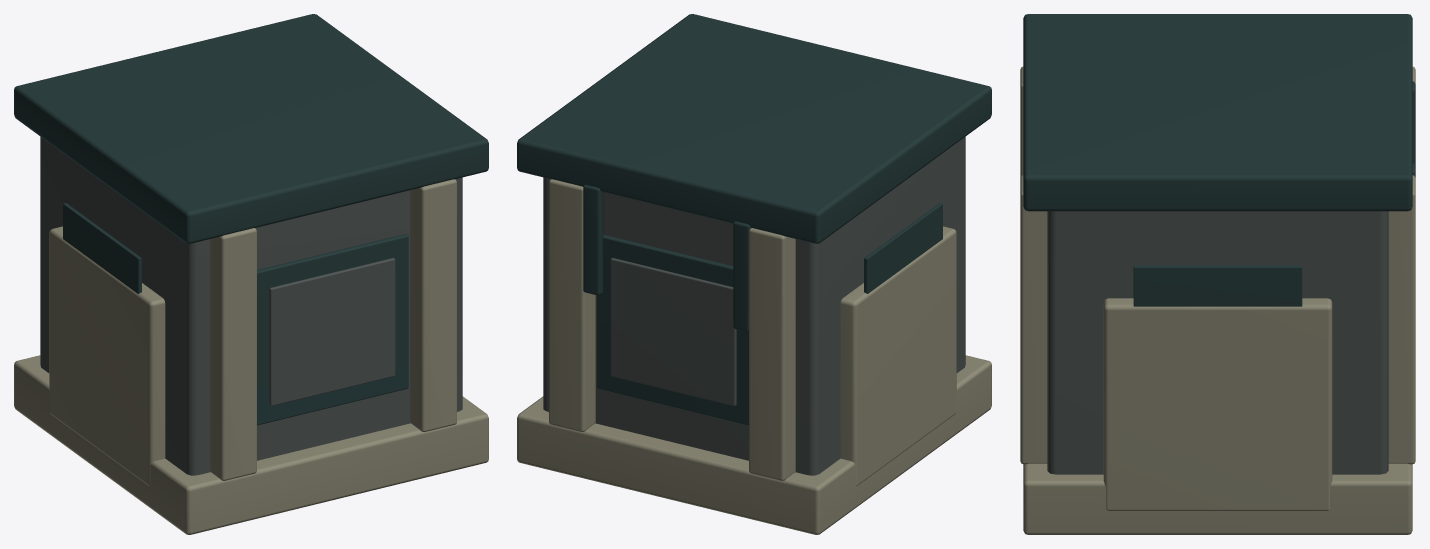
Rendered from outpost-1.glb.
3 renders of one model, left to right at view 1: azimuth 30°, elevation 25°; view 2: azimuth 150°, elevation 25°; view 3: azimuth 270°, elevation 25°, orthographic. The views are drawn at different scales.
Parts seen in each view (by area): view 1: outpost_2.001, outpost_1.001, outpost_0.001; view 2: outpost_2.001, outpost_1.001, outpost_0.001; view 3: outpost_2.001, outpost_1.001, outpost_0.001.
Boxes of the visible parts, bbox=[...] form: outpost_2.001: bbox=[14, 14, 488, 425]; outpost_1.001: bbox=[14, 179, 488, 534]; outpost_0.001: bbox=[40, 136, 462, 475]; outpost_2.001: bbox=[517, 14, 991, 425]; outpost_1.001: bbox=[517, 179, 991, 534]; outpost_0.001: bbox=[543, 136, 965, 475]; outpost_2.001: bbox=[1023, 14, 1415, 306]; outpost_1.001: bbox=[1020, 66, 1415, 534]; outpost_0.001: bbox=[1047, 211, 1388, 474].
Size of the model in its own units: 0.975 by 0.99 by 0.985.
